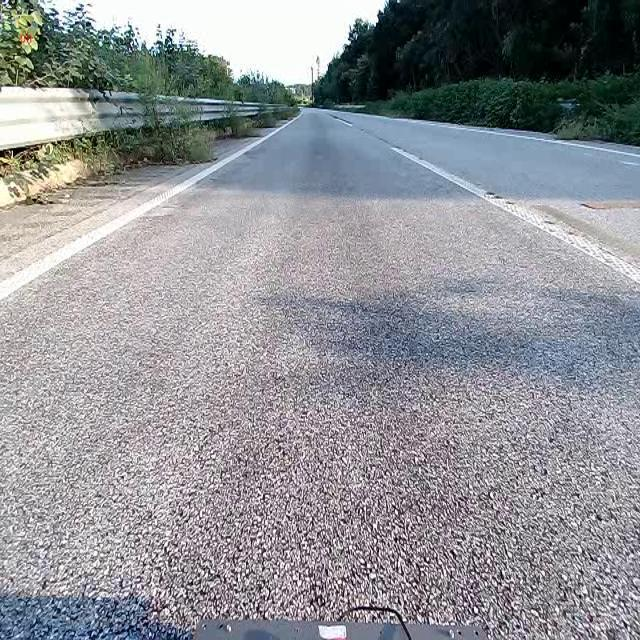Lane: (320, 110, 640, 370), (0, 110, 312, 320), (0, 116, 299, 304), (370, 133, 639, 285), (398, 118, 639, 157), (332, 115, 351, 126)
